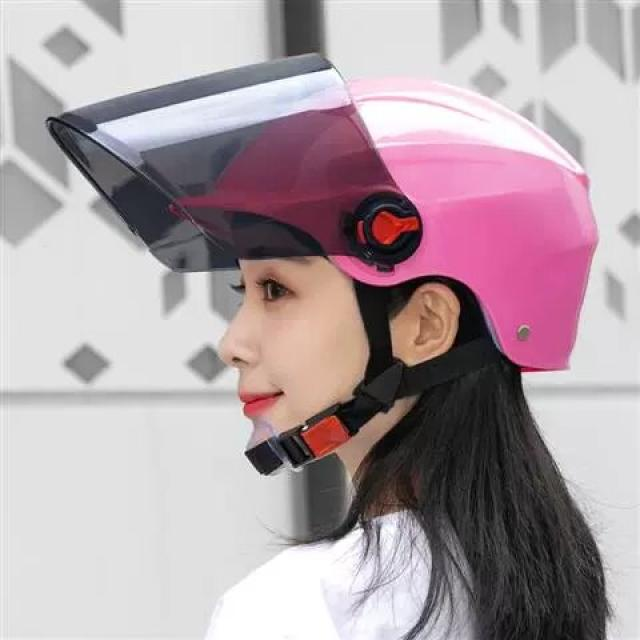helmet: (34, 46, 608, 484)
